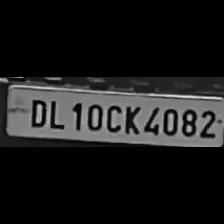0: (84, 99, 103, 131), (160, 104, 178, 136)
1: (66, 98, 84, 132)
2: (196, 106, 218, 140)
4: (140, 102, 160, 136)
8: (178, 104, 196, 138)
C: (104, 100, 122, 132)
D: (25, 96, 48, 128)
K: (120, 102, 140, 134)
L: (47, 96, 65, 130)
